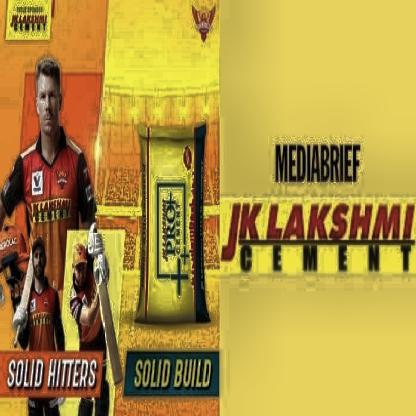JK lakshmi cement: (221, 198, 416, 278), (8, 1, 50, 38), (30, 199, 72, 222), (192, 6, 216, 43)
